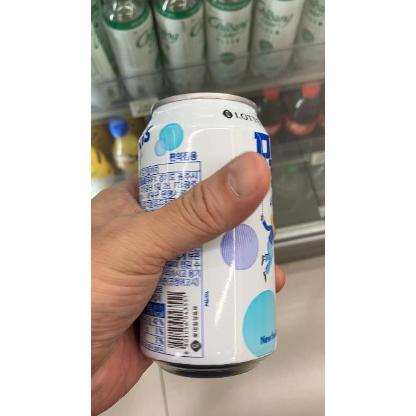Can: (136, 90, 278, 380)
